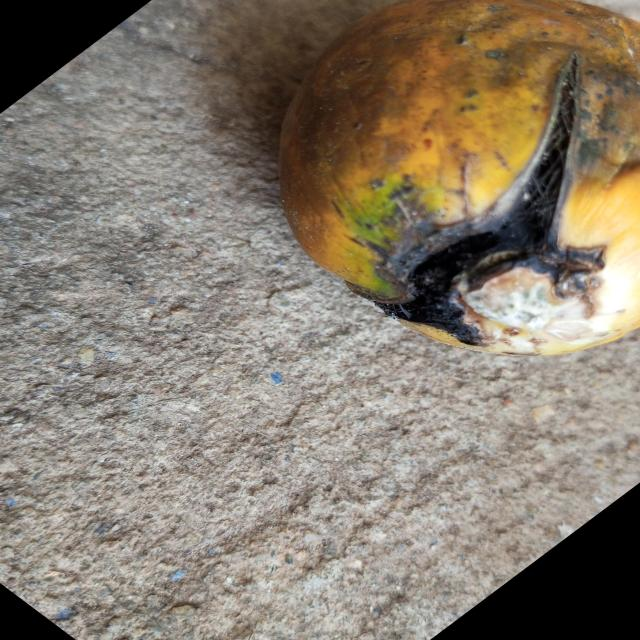damaged: (278, 0, 640, 360)
